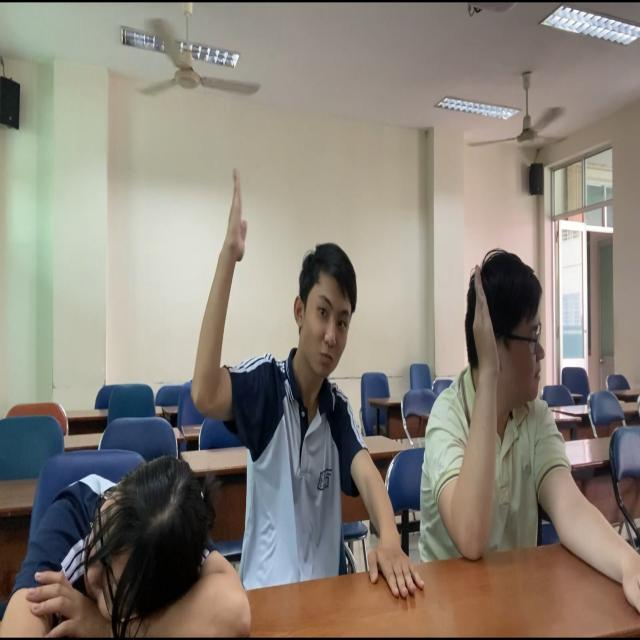raise_hand: (419, 218, 640, 640), (190, 141, 373, 597)
sleep: (1, 415, 274, 640)
